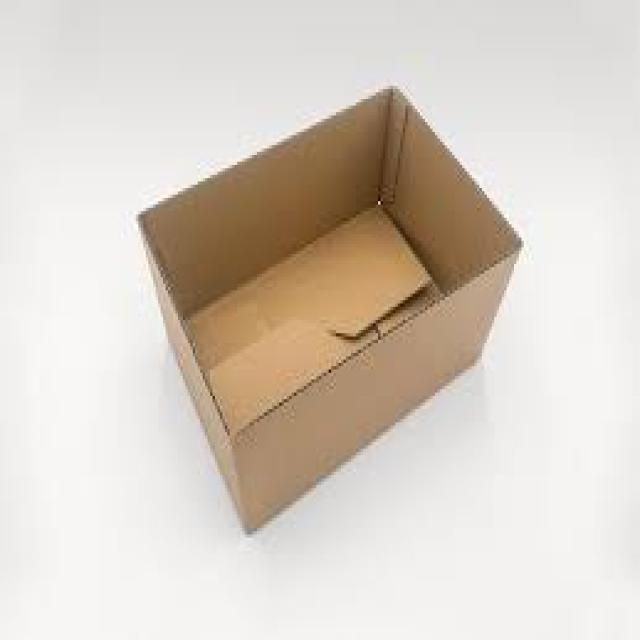cardboard: (131, 79, 516, 528)
